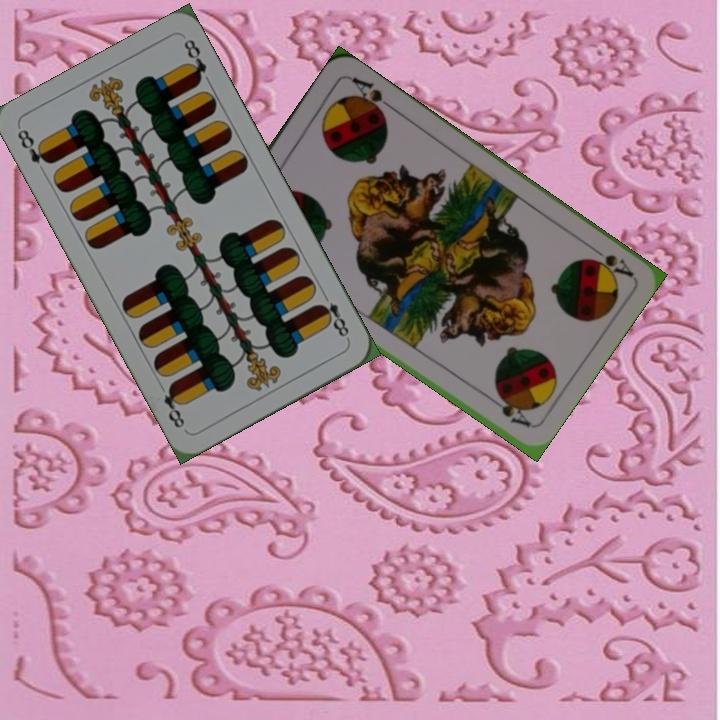E8: (314, 288, 352, 343), (13, 125, 55, 167)
SA: (583, 239, 636, 280)
